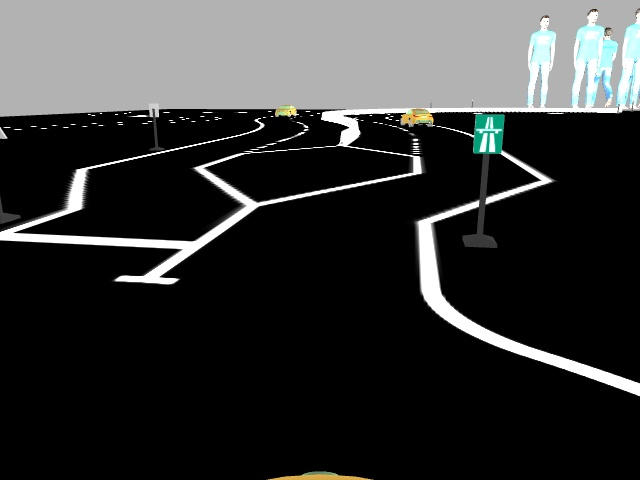HighwayEntrance: (471, 111, 506, 154)
